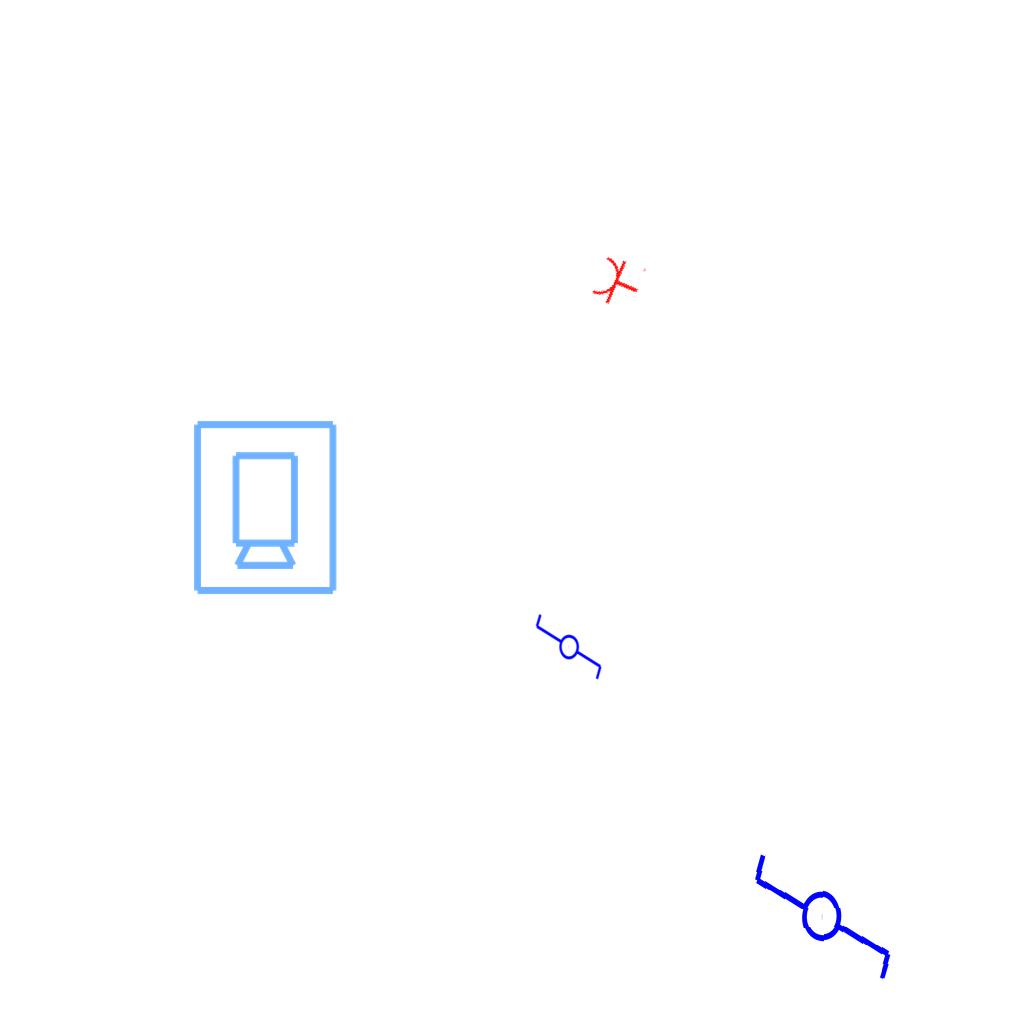KFO_Kamera_mit_Festobjektiv: (187, 416, 341, 598)
Schukosteckdose_einfach: (588, 250, 649, 314)
Wechselschalter: (747, 825, 900, 991), (532, 612, 604, 690)
